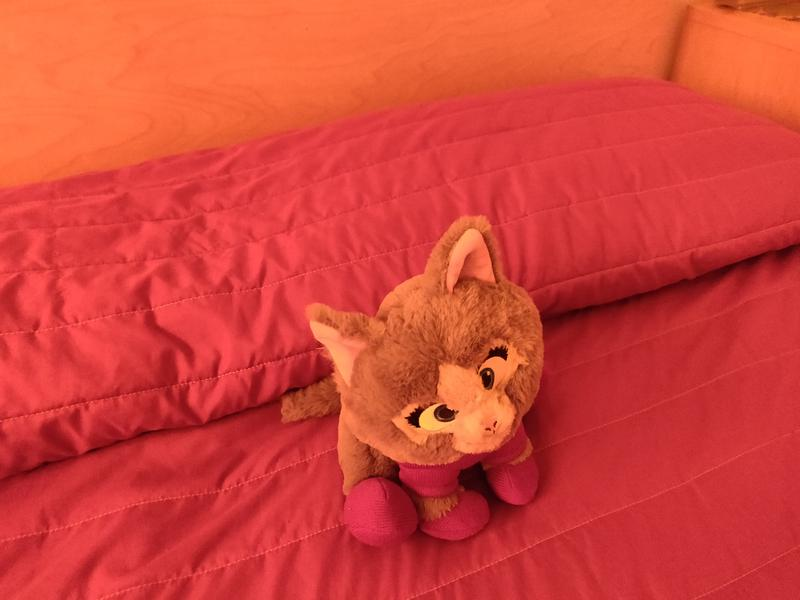kitten: (281, 211, 588, 542)
